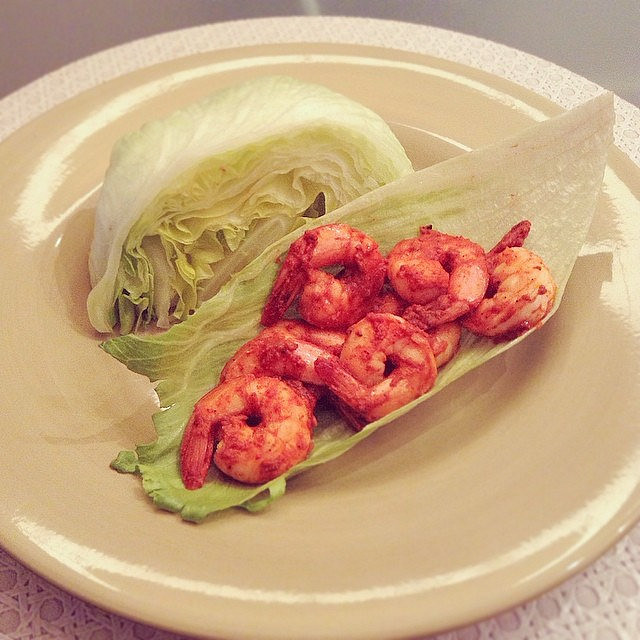chopped lettuce: (109, 85, 394, 227)
